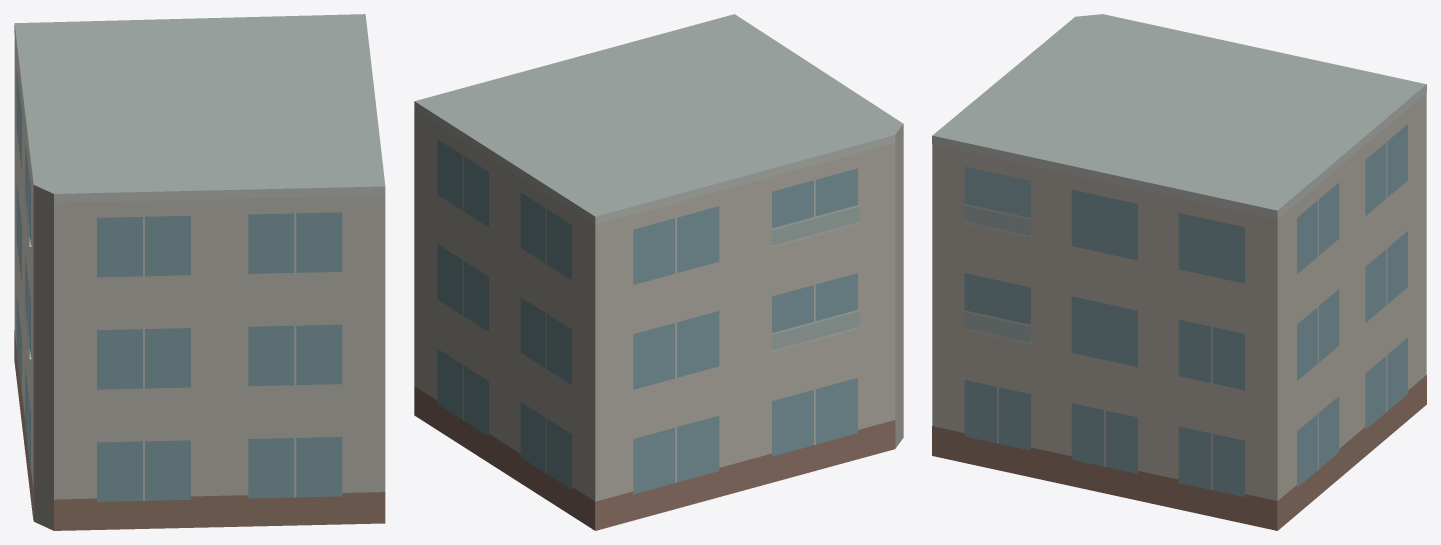
File: survey-upis-32952887.glb
3 views of the same model, side by side, from view 1: azimuth 30°, elevation 25°; view 2: azimuth 150°, elevation 25°; view 3: azimuth 270°, elevation 25° (orthographic). The views are drawn at different scales.
Visible parts, largest first — view 1: survey-upis-32952887.tmp; view 2: survey-upis-32952887.tmp; view 3: survey-upis-32952887.tmp.
Part boxes in pixels (box(x1,y1,x2,y2)): survey-upis-32952887.tmp: box(14, 14, 385, 530); survey-upis-32952887.tmp: box(414, 14, 903, 530); survey-upis-32952887.tmp: box(932, 14, 1426, 530).
Bounding box in the file's own units: 11.99 × 9.1 × 12.74.
